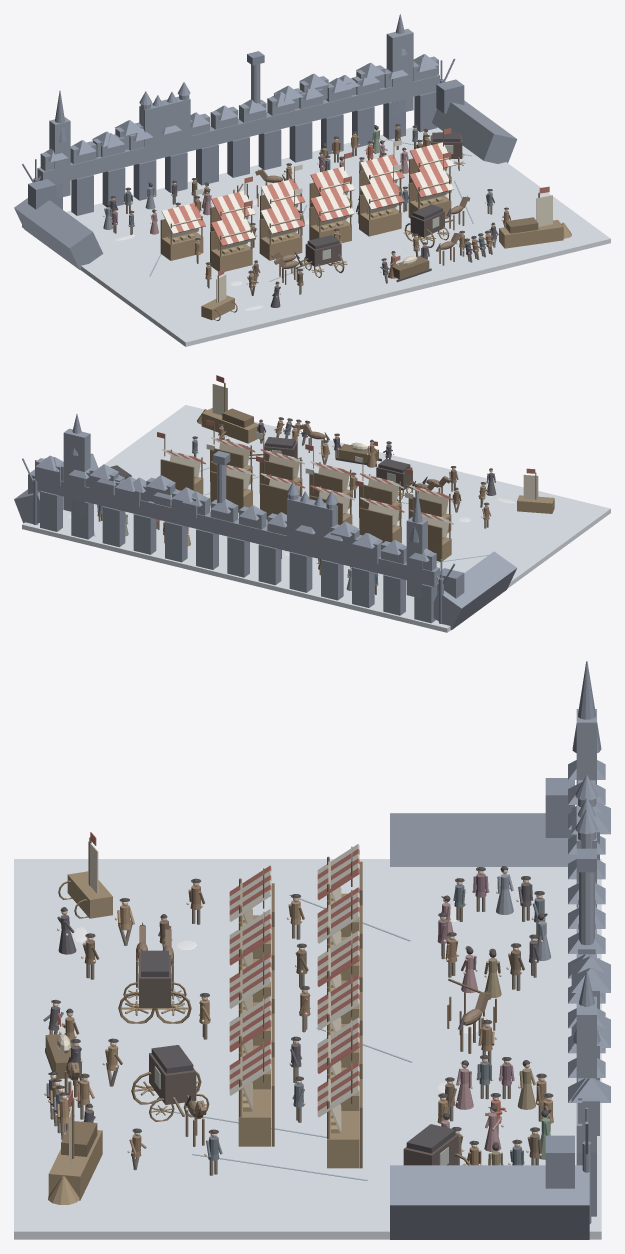
Rendered from scan-fig01-frost-fair-thames-muse.glb.
3 views of the same model, one above another, from view 1: azimuth 30°, elevation 25°; view 2: azimuth 150°, elevation 25°; view 3: azimuth 270°, elevation 25° (orthographic). The views are drawn at different scales.
Visible parts, largest first — view 1: Ice, BridgeDeck, Bank, Bank.001, BoothFront0, BoothFront3, Barge, BoothFront1, BoothBack0, WhiteTower, BoothFront2, BoothFront4 (+26 smaller); view 2: Ice, BridgeDeck, Bank, WhiteTower, Barge, SouthwarkTower, BoothBack1, BoothBack5, BoothBack4, ChurchTower, BoothFront3, BoothBack3 (+35 smaller); view 3: Ice, Bank.001, Bank, BoothFront4, BoothBack5, Barge, CoachB, SailBoat, BoothFront3, BoothBack4, BoothBack1, BoothBack3 (+15 smaller).
Part boxes in pixels (x1,y1,x2,y2): Ice: (22, 127, 610, 346); BridgeDeck: (37, 74, 439, 184); Bank: (14, 198, 103, 269); Bank.001: (432, 100, 517, 163); BoothFront0: (210, 200, 255, 271); BoothFront3: (359, 164, 404, 236); Barge: (499, 186, 571, 248); BoothFront1: (259, 188, 304, 260); BoothBack0: (160, 188, 205, 260); WhiteTower: (139, 96, 190, 151); BoothFront2: (309, 176, 354, 243); BoothFront4: (408, 152, 453, 218); Ice: (22, 405, 610, 632); BridgeDeck: (37, 480, 439, 586); Bank: (433, 551, 516, 630); WhiteTower: (287, 496, 337, 551); Barge: (197, 375, 258, 443); SouthwarkTower: (63, 428, 90, 514); BoothBack1: (355, 480, 404, 542); BoothBack5: (157, 432, 205, 494); BoothBack4: (206, 444, 255, 512); ChurchTower: (406, 517, 427, 598); BoothFront3: (256, 432, 304, 496); BoothBack3: (256, 456, 305, 519); Ice: (14, 859, 601, 1239); Bank.001: (390, 1165, 589, 1239); Bank: (390, 813, 576, 866); BoothFront4: (229, 1039, 274, 1146); BoothBack5: (317, 1061, 362, 1168); Barge: (48, 1090, 102, 1204); CoachB: (149, 1045, 196, 1116); SailBoat: (58, 832, 112, 918); BoothFront3: (229, 996, 274, 1089); BoothBack4: (317, 1017, 362, 1110); BoothBack1: (317, 887, 362, 980); BoothBack3: (317, 974, 362, 1067).
Size of the model in its own units: 31.58 by 8.85 by 20.32.
